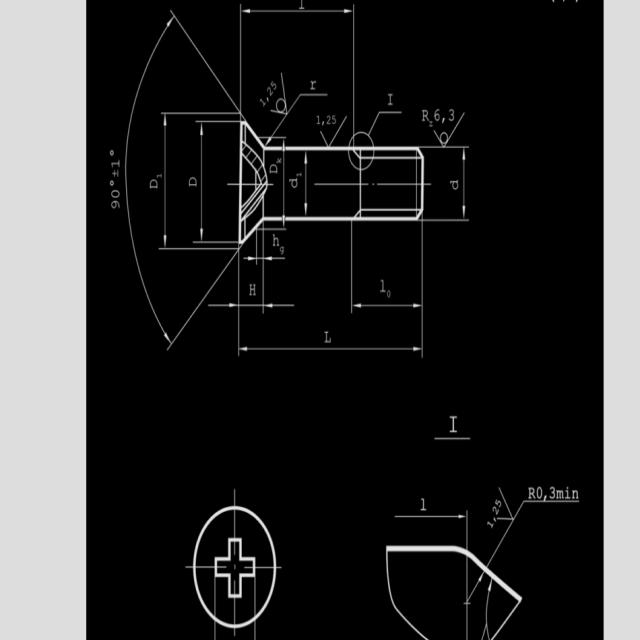marking_line: (123, 9, 236, 354), (235, 244, 425, 358), (239, 2, 355, 120), (159, 112, 239, 252), (349, 223, 424, 312), (207, 246, 295, 315), (192, 120, 239, 245), (424, 144, 470, 223), (265, 93, 328, 146), (243, 244, 287, 266), (303, 151, 308, 216)
numeric: (268, 163, 279, 176), (187, 176, 198, 187), (287, 178, 299, 188), (149, 178, 158, 190), (379, 278, 386, 293), (387, 92, 394, 107), (111, 200, 121, 210), (249, 283, 256, 297), (434, 108, 441, 122), (450, 180, 459, 190), (110, 189, 120, 198), (325, 331, 332, 343), (449, 108, 455, 122), (422, 110, 429, 122), (266, 87, 274, 97), (111, 160, 121, 168), (310, 79, 316, 91), (270, 81, 277, 90), (112, 169, 119, 178), (259, 98, 266, 106), (326, 115, 331, 125), (316, 114, 320, 125), (332, 114, 336, 125), (296, 171, 303, 177), (275, 158, 282, 164), (387, 289, 391, 298), (430, 120, 434, 129), (156, 173, 162, 178)
special_symbol: (432, 112, 465, 146), (320, 115, 348, 147), (369, 110, 404, 135), (270, 72, 288, 118), (109, 150, 115, 157), (109, 180, 115, 186)
